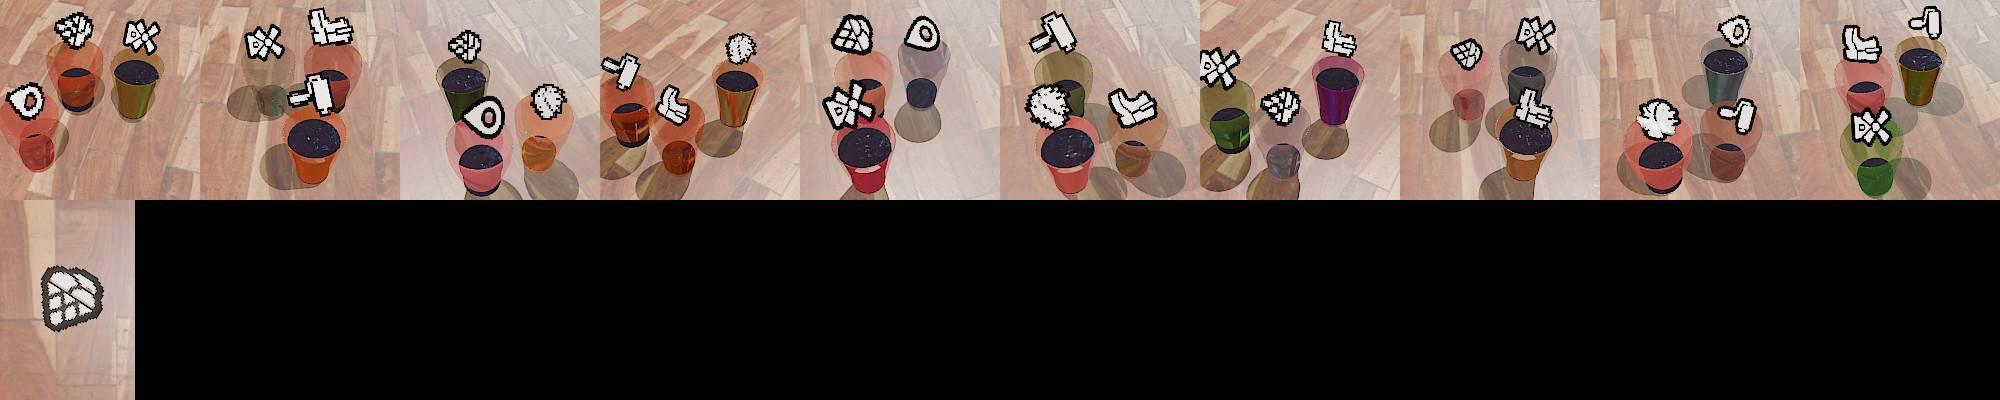icon: (38, 264, 103, 332), (821, 79, 880, 129), (1024, 83, 1074, 130), (1027, 10, 1077, 56), (460, 94, 508, 141), (287, 74, 337, 118), (1107, 85, 1158, 129), (1636, 98, 1682, 143), (830, 13, 874, 56), (1511, 87, 1555, 129), (1199, 45, 1240, 89), (1851, 106, 1895, 146), (309, 8, 355, 47), (601, 51, 644, 92), (1260, 87, 1302, 127), (1515, 14, 1556, 56), (1716, 96, 1758, 136), (654, 83, 694, 125), (54, 11, 96, 51), (244, 23, 286, 62), (5, 83, 46, 122), (1842, 24, 1881, 64), (903, 15, 943, 54), (1320, 18, 1357, 57), (122, 18, 162, 55), (531, 83, 568, 120), (1907, 5, 1943, 42), (446, 29, 483, 64), (1717, 14, 1753, 48), (723, 32, 758, 65), (1450, 37, 1483, 70)
